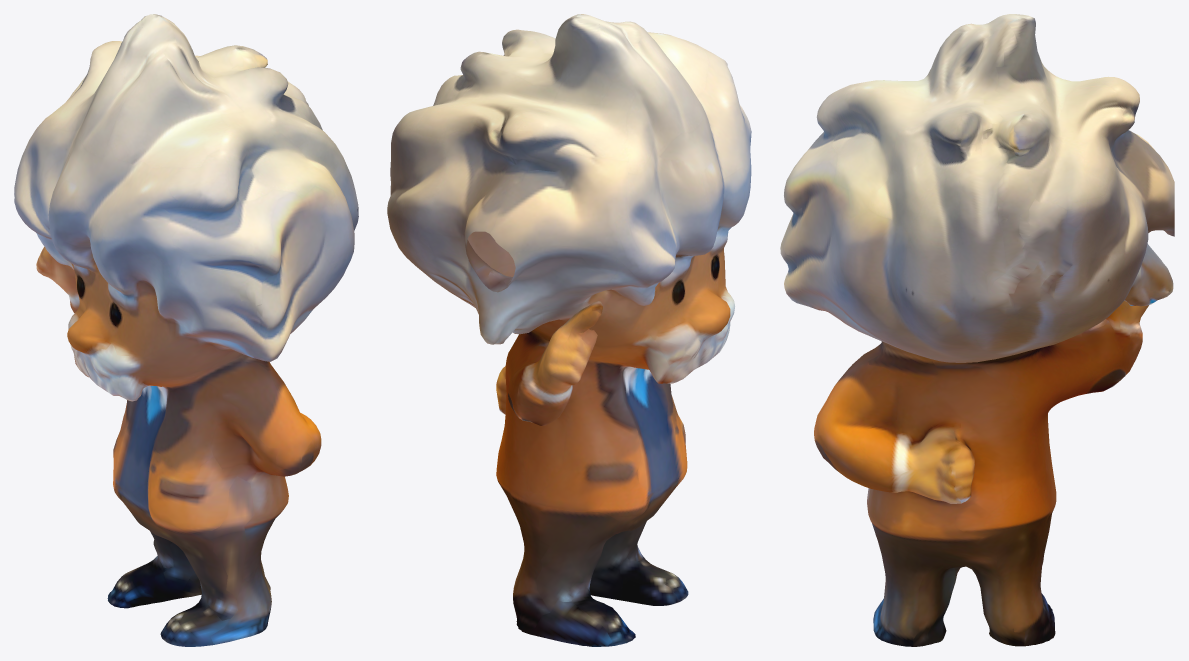
The model's file is einstein_salesforce_tower.glb.
The picture shows the model from 3 angles, left to right: view 1: azimuth 30°, elevation 25°; view 2: azimuth 150°, elevation 25°; view 3: azimuth 270°, elevation 25°; orthographic projection. The views are drawn at different scales.
Parts seen in each view (by area): view 1: Object_2; view 2: Object_2; view 3: Object_2.
Part boxes in pixels (x1,y1,x2,y2): Object_2: (14, 14, 358, 646); Object_2: (387, 14, 751, 646); Object_2: (780, 14, 1174, 646).
Size of the model in its own units: 0.9453 by 1.88 by 1.12.
Materials: 1 (1 with a texture image).
